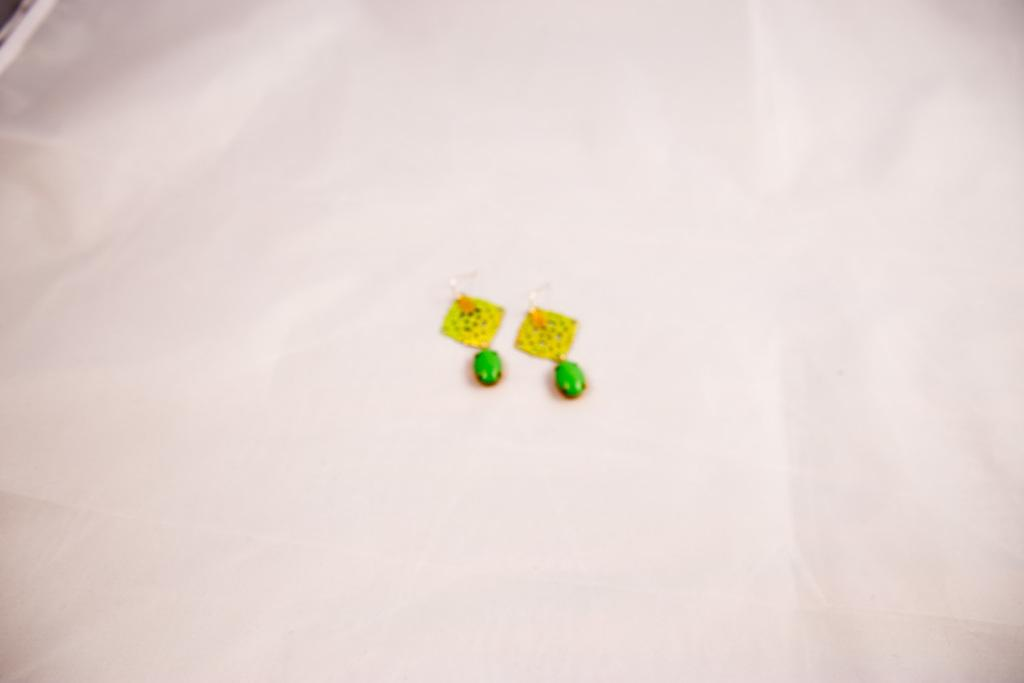earring: (506, 281, 586, 403), (432, 262, 502, 384)
